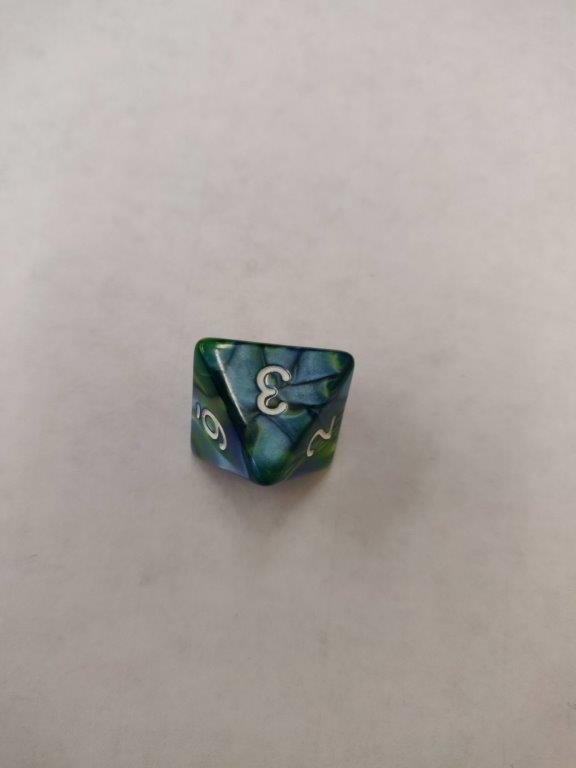d8-3: (188, 336, 356, 476)
